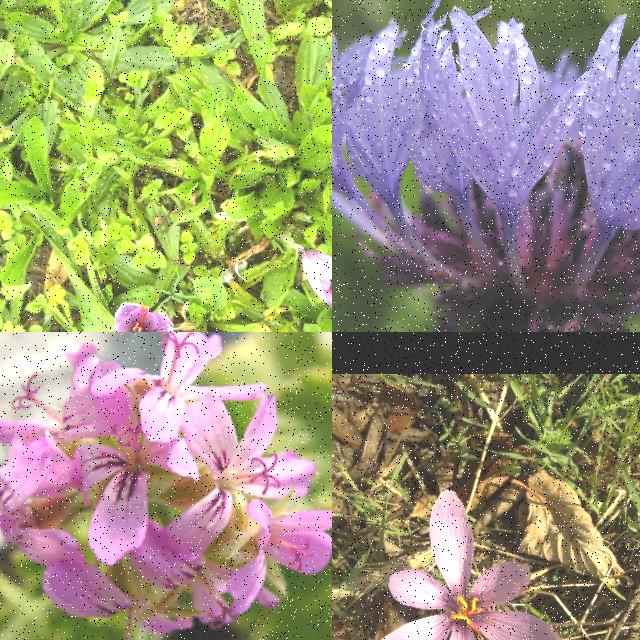flower: (364, 490, 564, 640), (302, 248, 332, 320), (115, 303, 174, 332)
